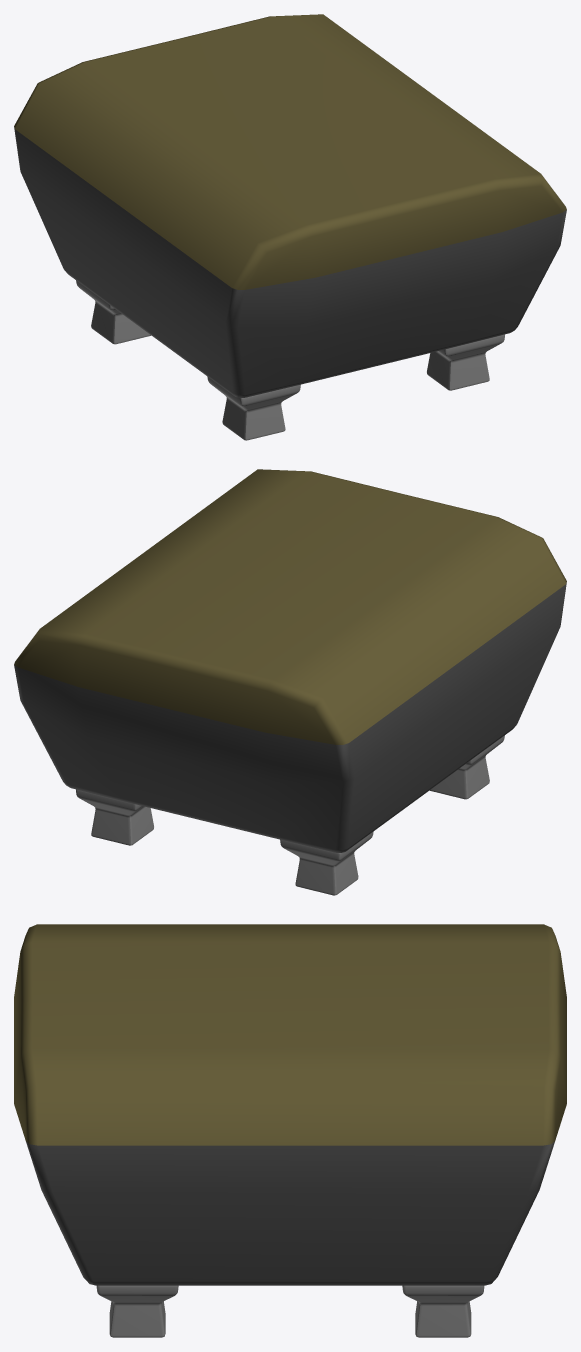
Rendered from Recliner_Footrest.fbx.
The picture shows the model from 3 angles, top to bottom: view 1: azimuth 30°, elevation 25°; view 2: azimuth 150°, elevation 25°; view 3: azimuth 270°, elevation 25°; orthographic projection. The views are drawn at different scales.
Parts seen in each view (by area): view 1: Sinfle_Leg_Rest, Recliner_Leg_Feet; view 2: Sinfle_Leg_Rest, Recliner_Leg_Feet; view 3: Sinfle_Leg_Rest, Recliner_Leg_Feet.
Boxes of the visible parts, bbox=[...] form: Sinfle_Leg_Rest: bbox=[14, 14, 566, 397]; Recliner_Leg_Feet: bbox=[76, 280, 504, 440]; Sinfle_Leg_Rest: bbox=[14, 469, 566, 852]; Recliner_Leg_Feet: bbox=[76, 735, 504, 895]; Sinfle_Leg_Rest: bbox=[14, 924, 566, 1285]; Recliner_Leg_Feet: bbox=[96, 1285, 484, 1337].
Bounding box in the file's own units: 65.49 × 44 × 80.66.
